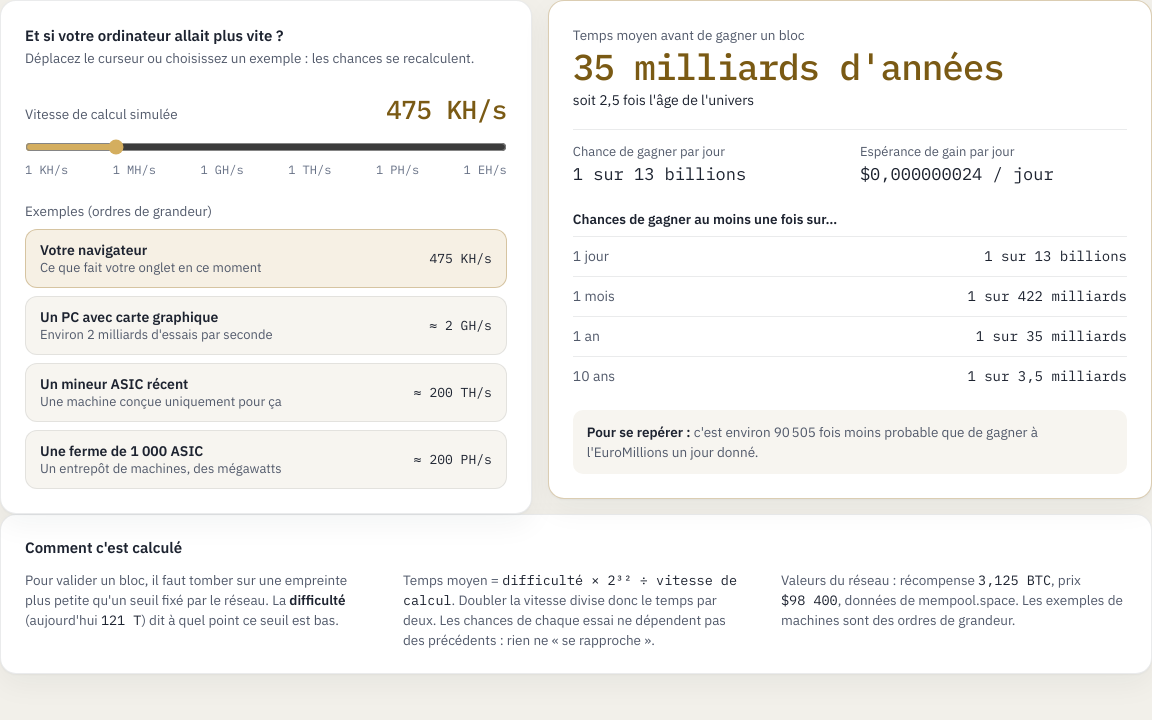
Test case: ChancesScreen › recomputes everything when an example machine is picked
This screenshot has width=1152, height=720.
Click the button "Un mineur ASIC récent".
click(266, 392)  # box x1=25 y1=363 x2=507 y2=422
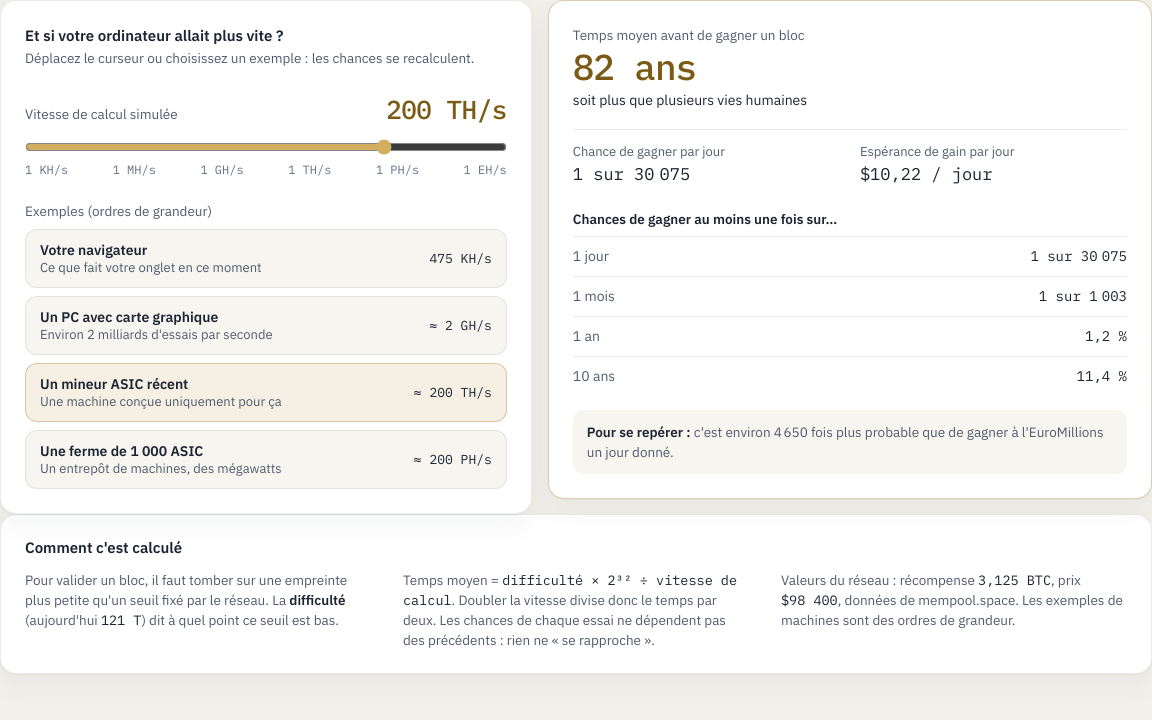
expect the text "1 mois" is shown: met, box x1=573 y1=286 x2=615 y2=307
expect the text "200 TH/s" is shown: met, box x1=386 y1=90 x2=507 y2=129
